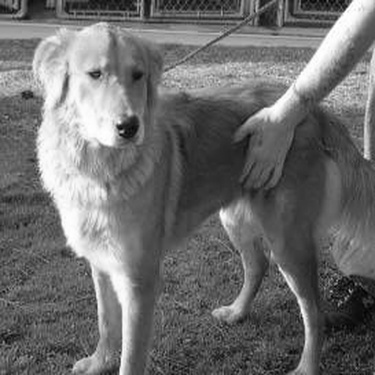dog: (26, 13, 372, 370)
